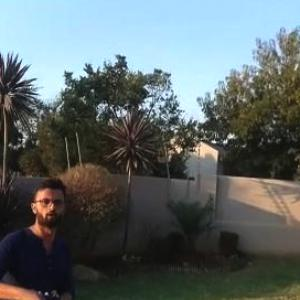follow: (0, 166, 82, 299)
